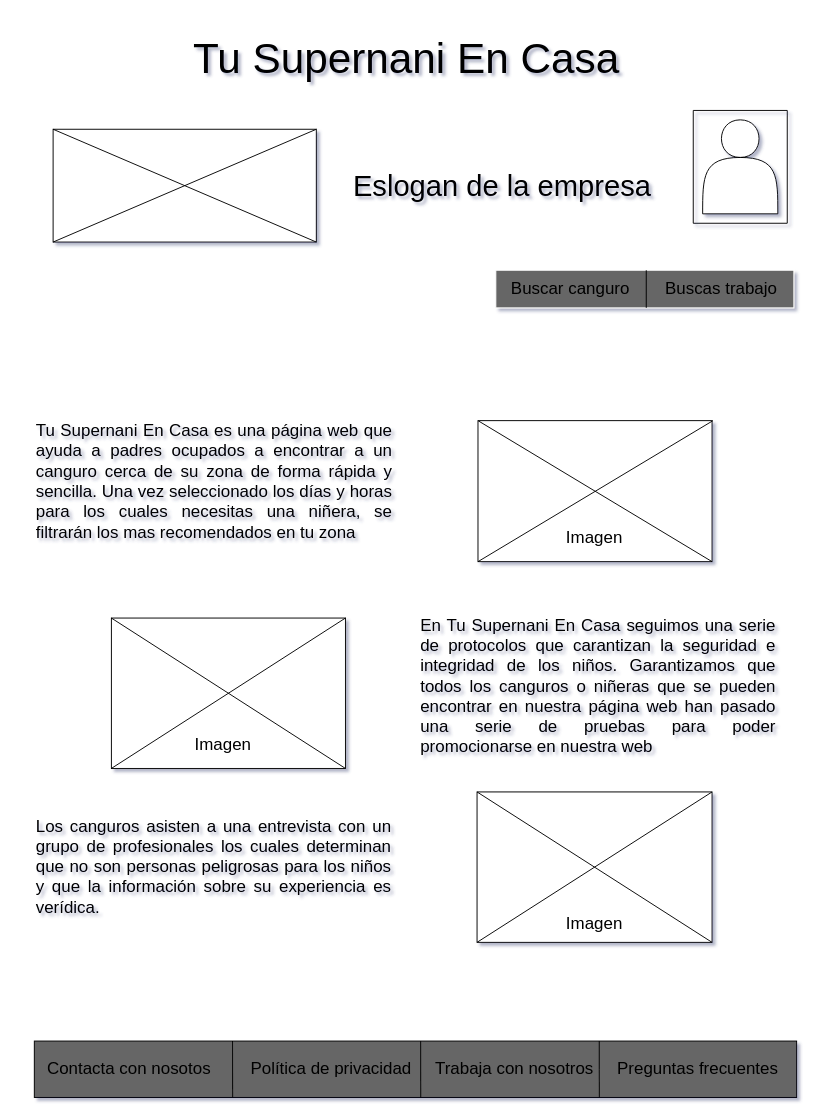
Some shapes in this 837 by 1120 pixel diagram are drawn without their labels. Each missing label, with the centre of its shape:
"Login/Crear cuenta" belongs at (x=740, y=166).
"Logo" belongs at (x=184, y=185).
